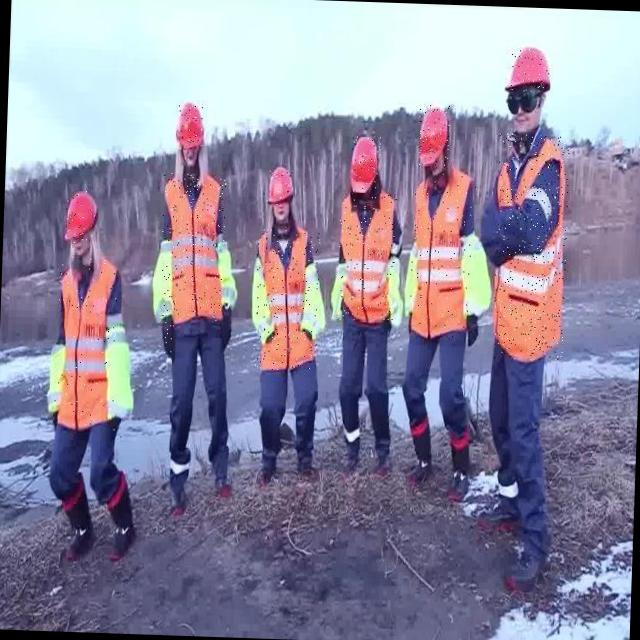helmet: (418, 103, 450, 166), (507, 48, 550, 92), (350, 136, 380, 199), (64, 190, 98, 243), (176, 105, 202, 150), (266, 170, 294, 205)
vest: (492, 134, 570, 360), (53, 255, 118, 429), (408, 172, 476, 337), (159, 172, 226, 321), (252, 227, 321, 371), (336, 192, 396, 322)
